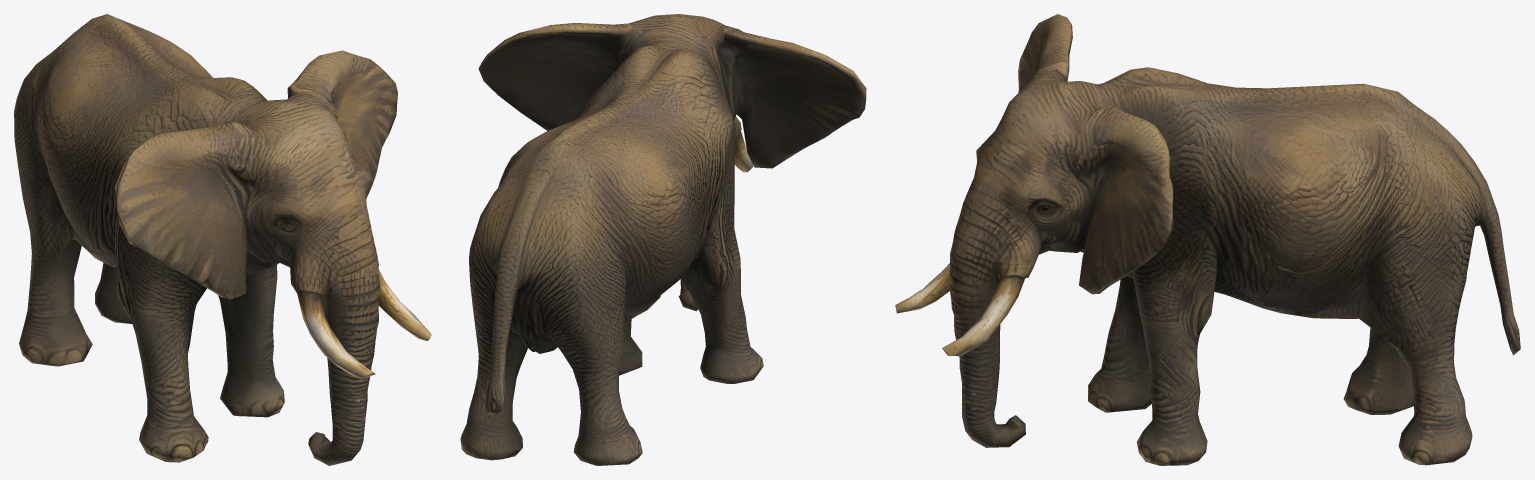
File: elephant.glb
3 renders of one model, left to right at view 1: azimuth 30°, elevation 25°; view 2: azimuth 150°, elevation 25°; view 3: azimuth 270°, elevation 25°, orthographic. The views are drawn at different scales.
Parts seen in each view (by area): view 1: tripo_node_0bdb7e24-791d-460d-a178-4d51ca2a1055; view 2: tripo_node_0bdb7e24-791d-460d-a178-4d51ca2a1055; view 3: tripo_node_0bdb7e24-791d-460d-a178-4d51ca2a1055.
Part boxes in pixels (<box>): tripo_node_0bdb7e24-791d-460d-a178-4d51ca2a1055: <box>14,14,431,465</box>; tripo_node_0bdb7e24-791d-460d-a178-4d51ca2a1055: <box>460,14,866,465</box>; tripo_node_0bdb7e24-791d-460d-a178-4d51ca2a1055: <box>895,14,1520,465</box>.
Bounding box in the file's own units: 0.6689 × 0.6317 × 0.9988.
Materials: 1 (1 with a texture image).
